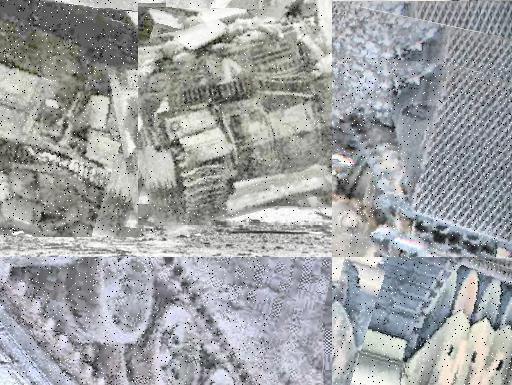tanks: (139, 3, 333, 225), (1, 1, 159, 238), (333, 60, 512, 258), (1, 258, 242, 385), (333, 258, 512, 385)
